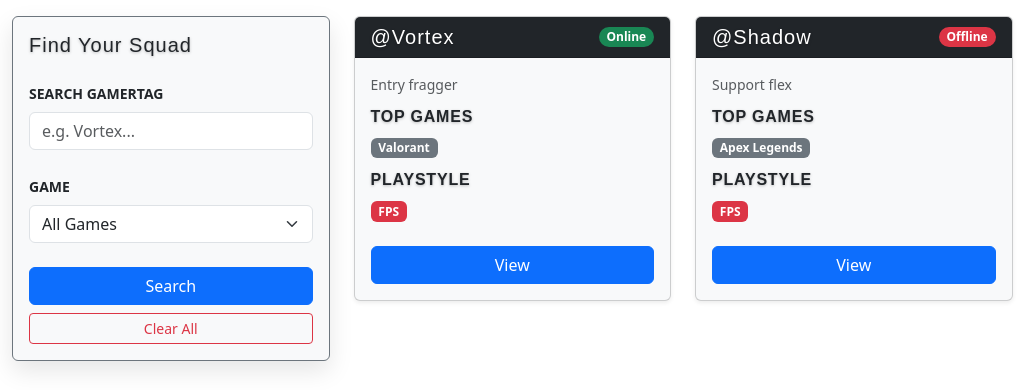
Test: PlayerListing Component › filters players by Gamertag search term
In the field with placeholder "e.g. Vortex...": (171, 131) [29, 112, 312, 150], type "Vortex"
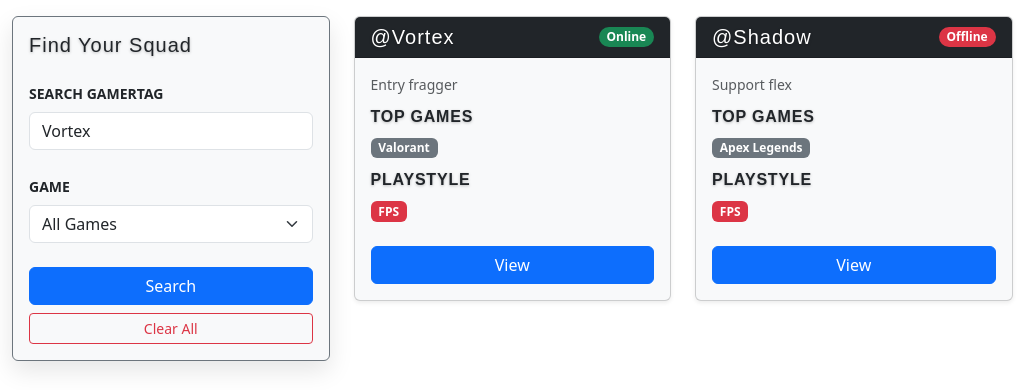
Click the button "Search": (171, 286) [29, 267, 312, 305]
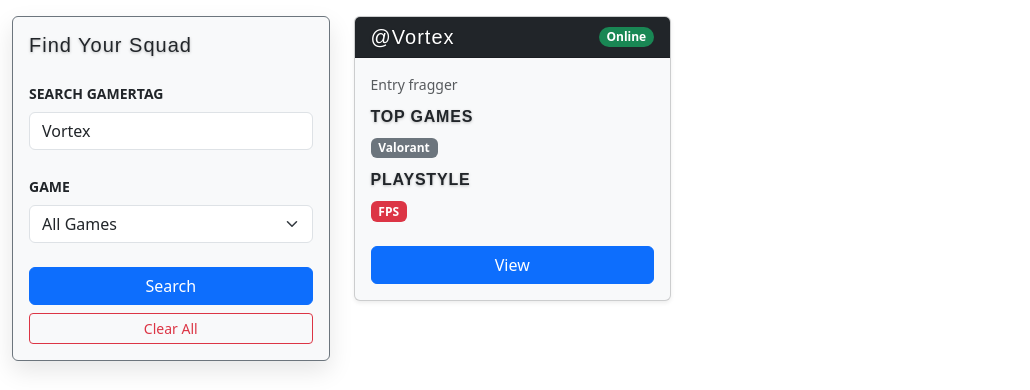
Expected: the heading "@Vortex" is shown, [370, 25, 454, 49]
Expected: the heading "@Shadow" is gone
